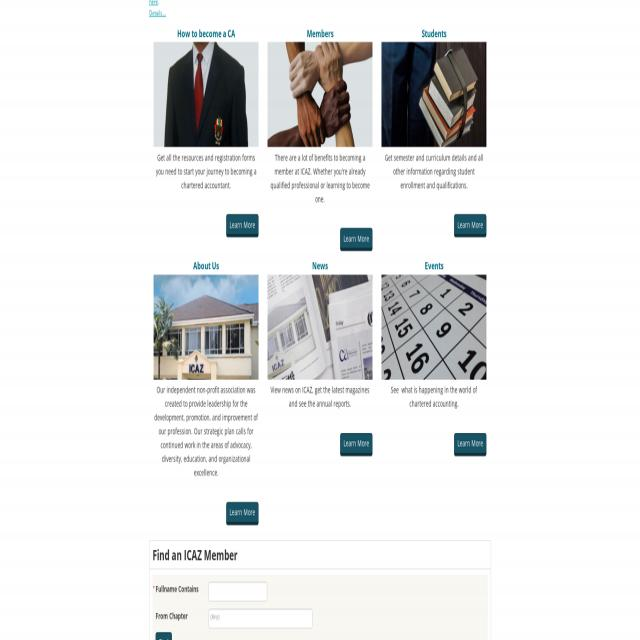button: (154, 42, 258, 147), (268, 42, 372, 147), (382, 42, 486, 147), (154, 275, 258, 379), (268, 275, 372, 379), (382, 275, 486, 379), (340, 228, 372, 252), (454, 433, 486, 457), (340, 433, 372, 457), (226, 502, 259, 525), (226, 214, 258, 237), (454, 214, 486, 237)
field: (209, 610, 313, 629), (208, 582, 268, 602)
